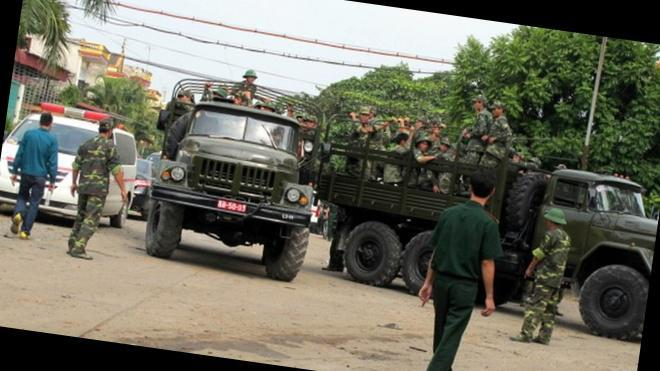License_Plate: (216, 196, 248, 216)
